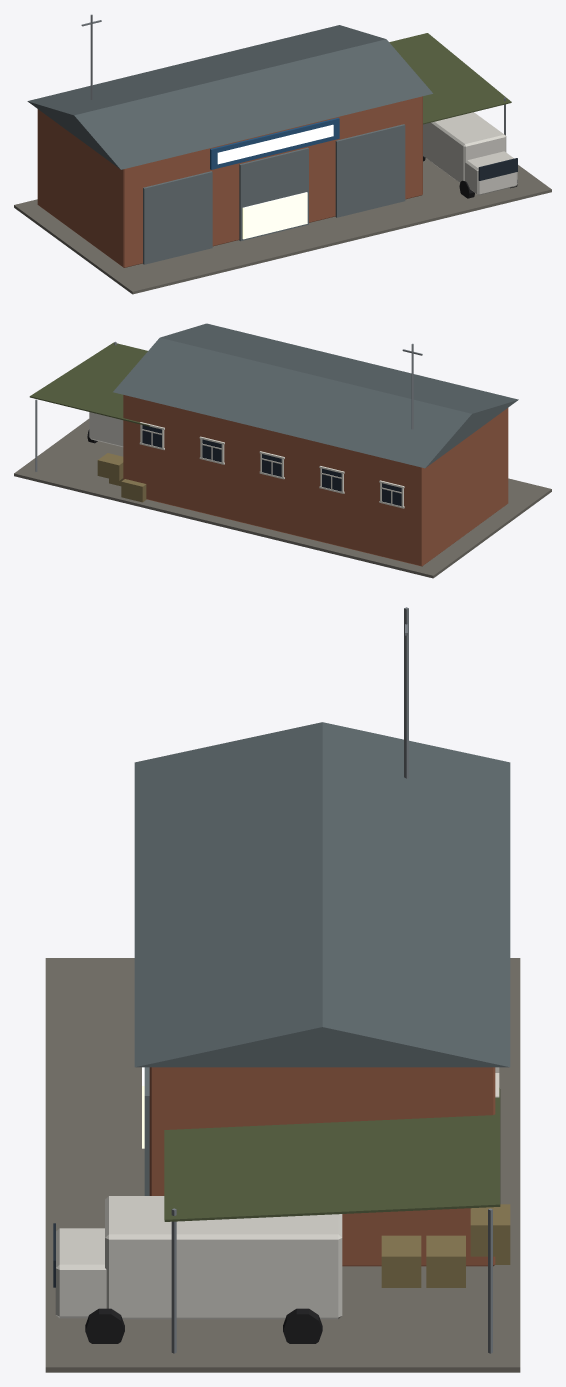
The model's file is workshop.glb.
The picture shows the model from 3 angles, top to bottom: view 1: azimuth 30°, elevation 25°; view 2: azimuth 150°, elevation 25°; view 3: azimuth 270°, elevation 25°; orthographic projection. The views are drawn at different scales.
Parts seen in each view (by area): view 1: workshop; view 2: workshop; view 3: workshop.
Part boxes in pixels (<box>): workshop: <box>14,14,551,294</box>; workshop: <box>14,323,551,578</box>; workshop: <box>45,607,520,1372</box>.
Bounding box in the file's own units: 19.6 × 9 × 9.6.
